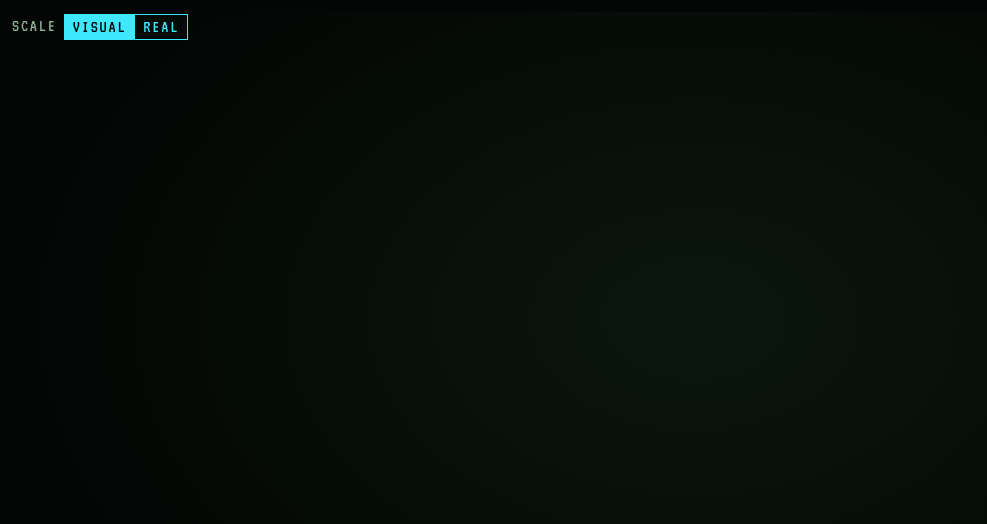
Scenario: scale switch › starts at visual scale and switches to real scale
Expected: the button "Visual" is shown, [65, 15, 134, 39]
Click the button "Real" at coordinates (161, 27), box [134, 15, 187, 39]
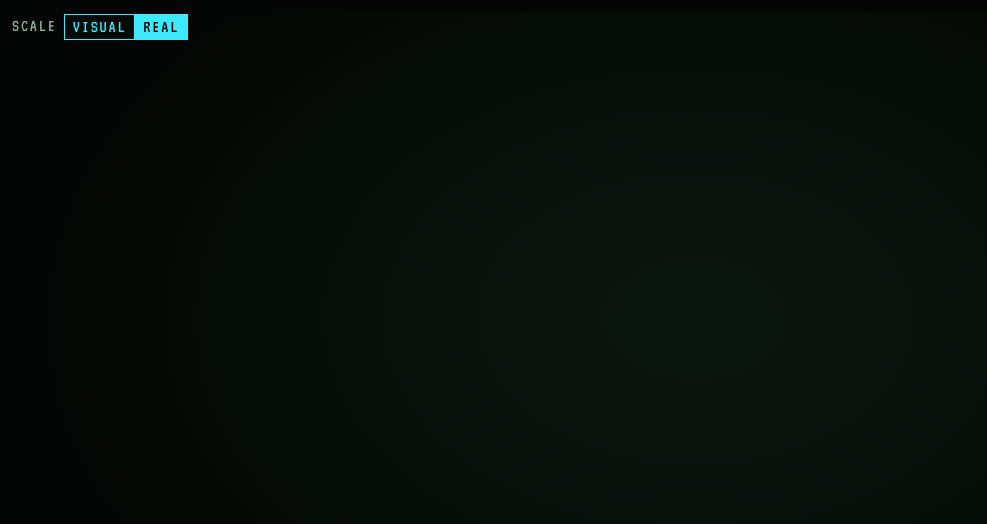
Result: the button "Visual" is not pressed at [65, 15, 134, 39]
Result: the button "Real" is pressed at [134, 15, 187, 39]
